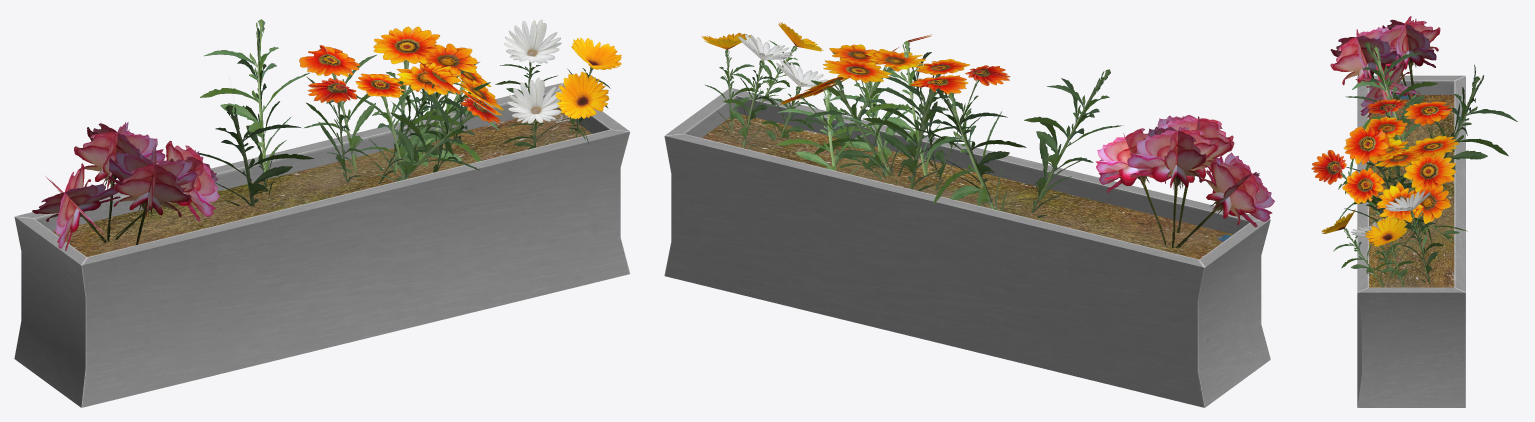
File: SM_Flower_Box_02.glb
3 views of the same model, side by side, from view 1: azimuth 30°, elevation 25°; view 2: azimuth 150°, elevation 25°; view 3: azimuth 270°, elevation 25° (orthographic). The views are drawn at different scales.
Visible parts, largest first — view 1: SM_Flower_Box_02; view 2: SM_Flower_Box_02; view 3: SM_Flower_Box_02.
Part boxes in pixels (x1,y1,x2,y2): SM_Flower_Box_02: (14, 19, 630, 407); SM_Flower_Box_02: (664, 22, 1275, 407); SM_Flower_Box_02: (1311, 16, 1517, 407).
Size of the model in its own units: 1.53 by 0.6725 by 0.5972.
1 material, 1 textured.
